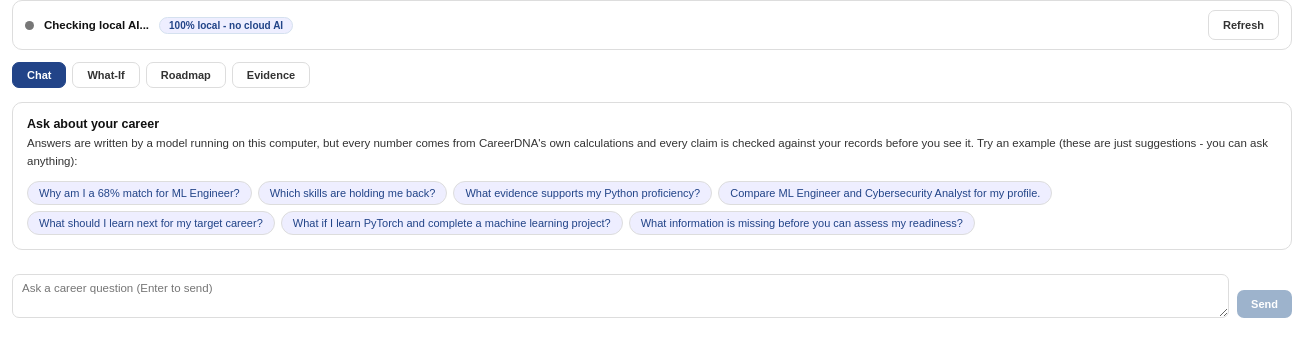
Scenario: retrieval diagnostics › shows keyword retrieval when only BM25 ran
Click the button "Which skills are holding me back?". click: (353, 193)
box: x1=258 y1=181 x2=447 y2=205
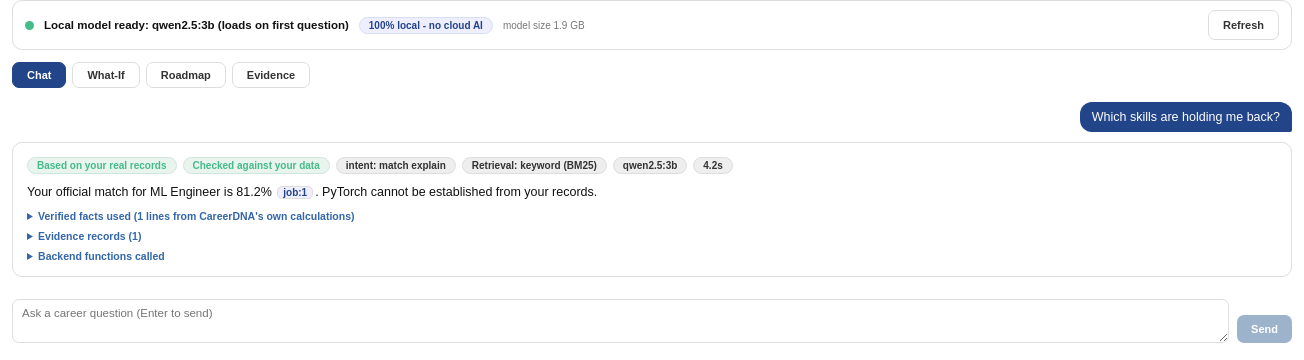
Result: the text "Retrieval: keyword (BM25)" is shown at x1=462 y1=157 x2=607 y2=174
